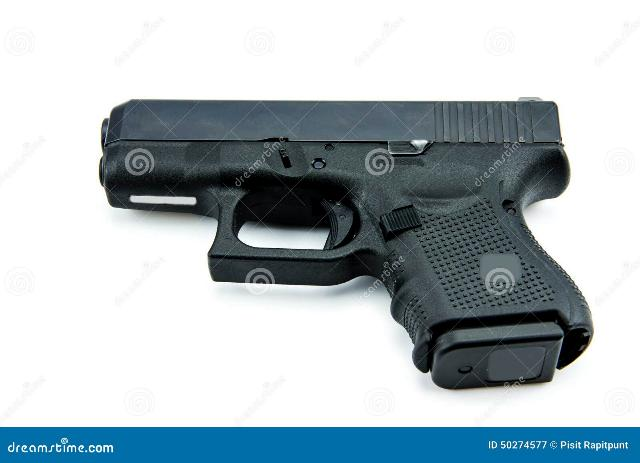pistol: (97, 96, 593, 388)
